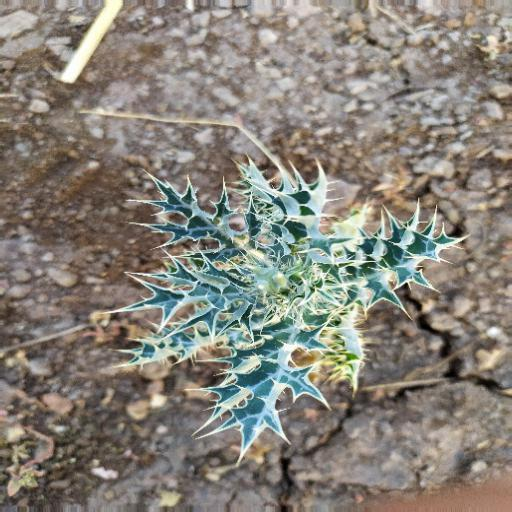weed: (111, 154, 472, 435)
